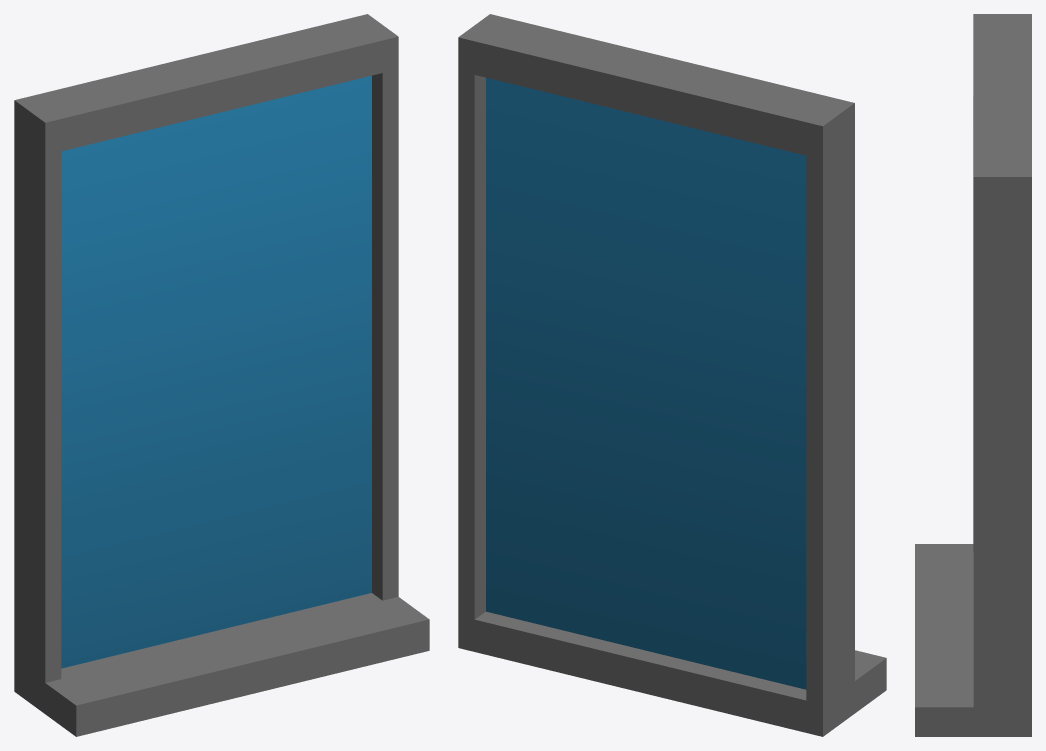
File: Window02.fbx
3 renders of one model, left to right at view 1: azimuth 30°, elevation 25°; view 2: azimuth 150°, elevation 25°; view 3: azimuth 270°, elevation 25°, orthographic. The views are drawn at different scales.
Parts seen in each view (by area): view 1: Window02; view 2: Window02; view 3: Window02.
Boxes of the visible parts, x1,y1,x2,y2 form: Window02: [14, 14, 429, 736]; Window02: [458, 14, 886, 736]; Window02: [915, 14, 1031, 736].
Size of the model in its own units: 66 by 106 by 20.
